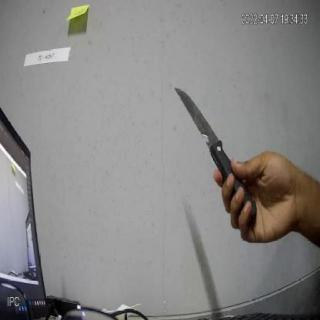knife: (175, 87, 232, 193)
